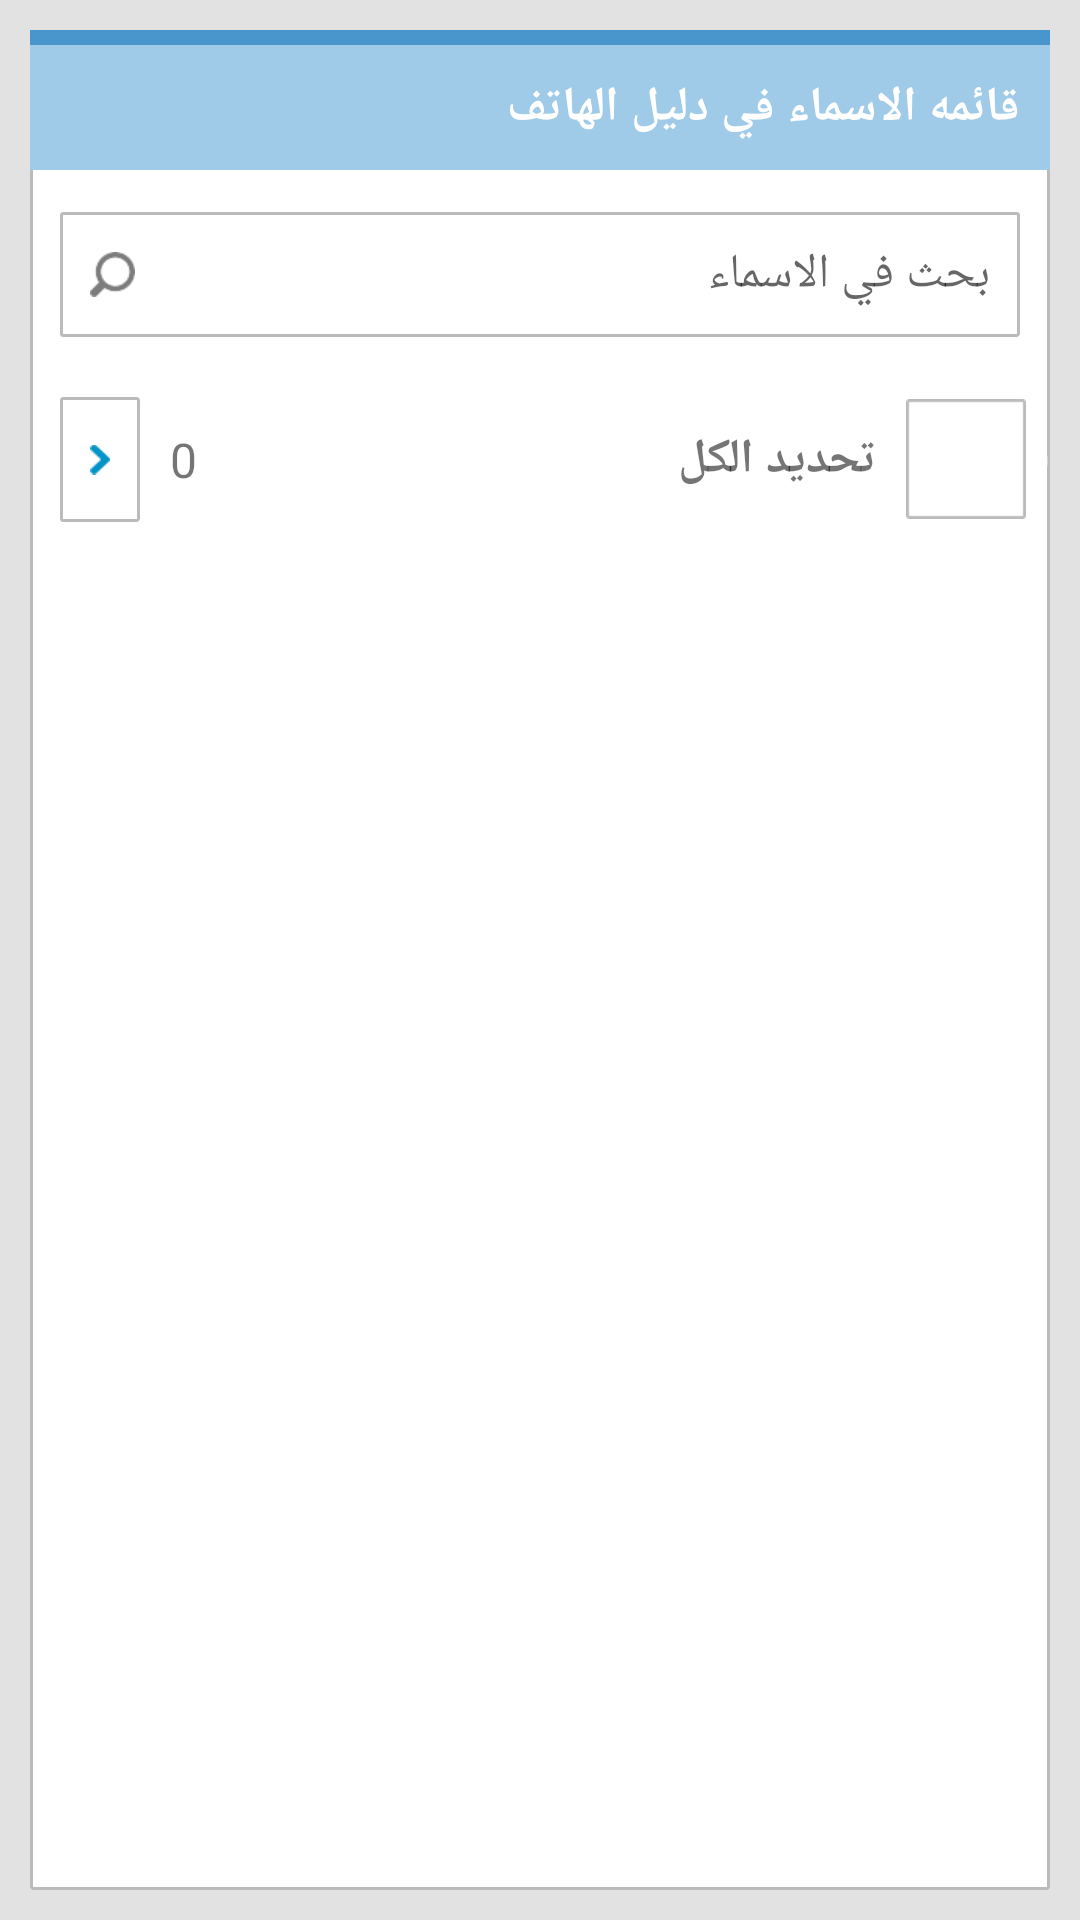

Where to tap for icons on this 1080px x 1920px app screen, as [x,y]:
search: [112,274]
